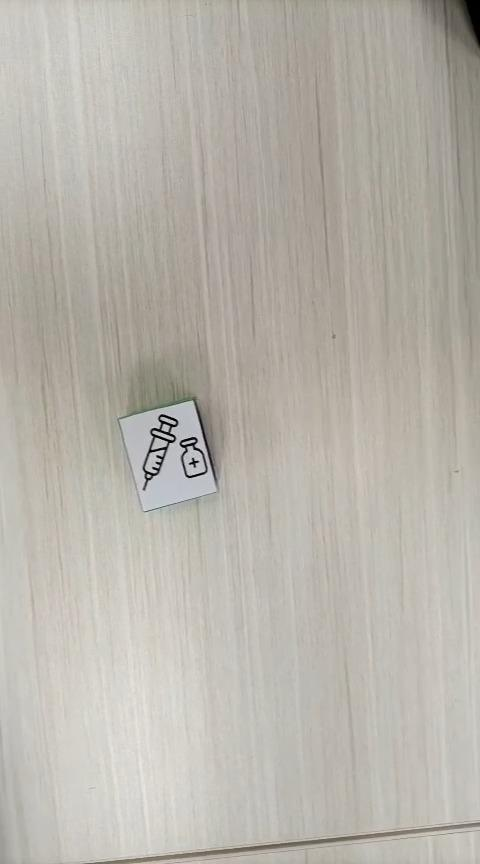antiseptic cream: (115, 395, 219, 513)
